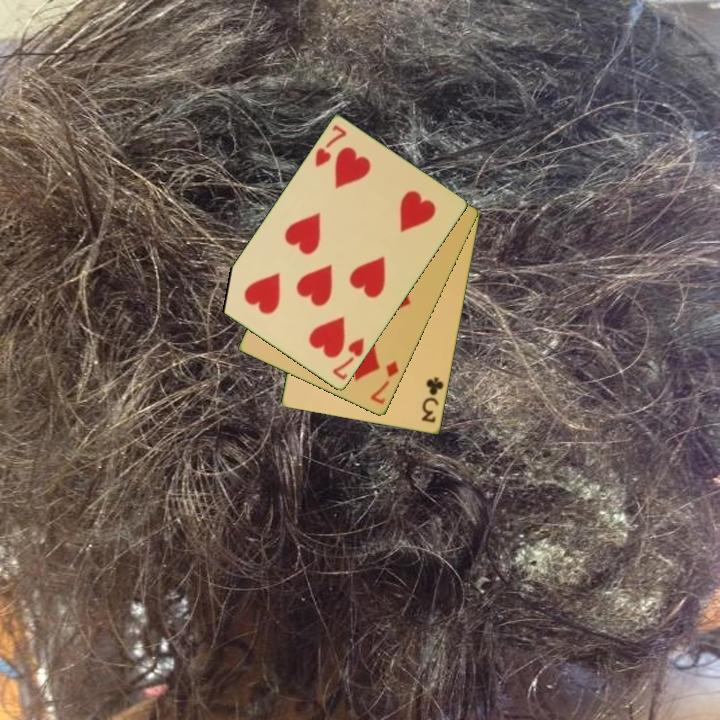3c: (418, 374, 447, 426)
7d: (367, 357, 402, 408)
7h: (329, 334, 367, 384), (311, 122, 350, 170)
